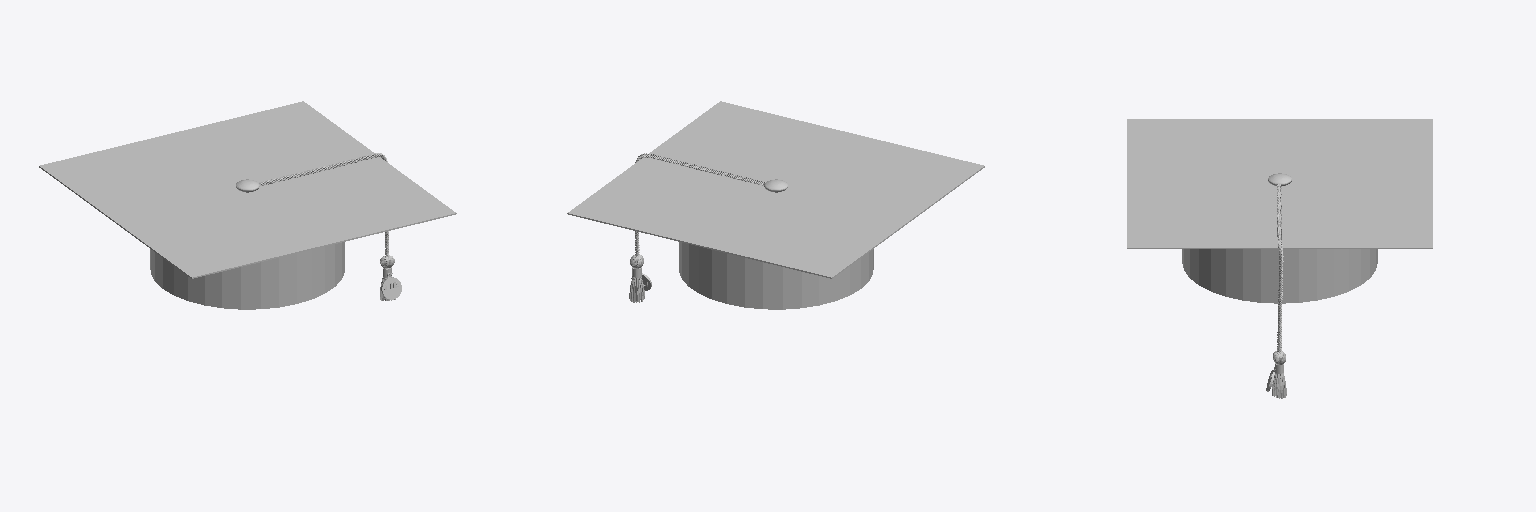
The model's file is Grad Hat_UF.obj.
3 renders of one model, left to right at view 1: azimuth 30°, elevation 25°; view 2: azimuth 150°, elevation 25°; view 3: azimuth 270°, elevation 25°, orthographic.
Visible parts, largest first — view 1: Plane, Cap_Cylinder_Cylinder, Rope_Circle.004; view 2: Plane, Cap_Cylinder_Cylinder, Rope_Circle.004; view 3: Plane, Cap_Cylinder_Cylinder, Rope_Circle.004.
Boxes of the visible parts, box(x1,y1,x2,y2) form: Plane: box(39, 101, 456, 278); Cap_Cylinder_Cylinder: box(150, 242, 344, 309); Rope_Circle.004: box(259, 153, 388, 256); Plane: box(567, 101, 984, 278); Cap_Cylinder_Cylinder: box(679, 242, 873, 309); Rope_Circle.004: box(635, 153, 765, 256); Plane: box(1127, 119, 1432, 248); Cap_Cylinder_Cylinder: box(1182, 249, 1377, 303); Rope_Circle.004: box(1277, 184, 1283, 352).
Size of the model in its own units: 1.74 by 0.9016 by 1.64.